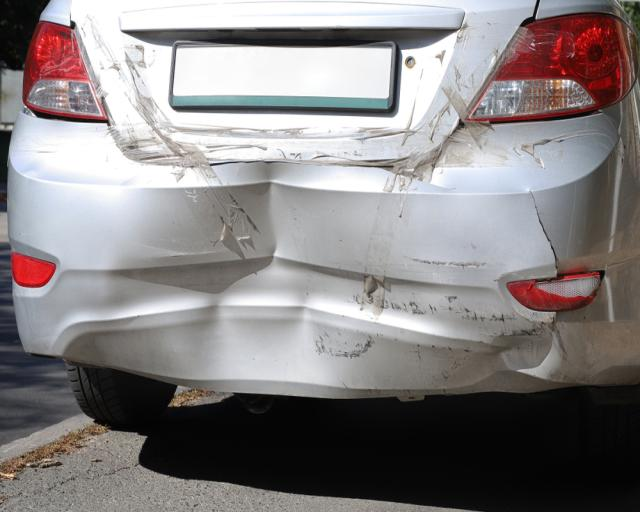crack: (527, 188, 559, 276)
dent: (106, 165, 342, 387), (447, 331, 564, 394)
scratch: (337, 255, 516, 359)
